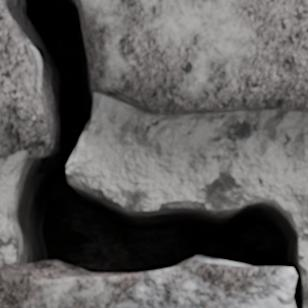brick: (0, 257, 295, 307)
broken_brick: (82, 0, 307, 115), (0, 3, 47, 157)
crack: (0, 0, 307, 307)
